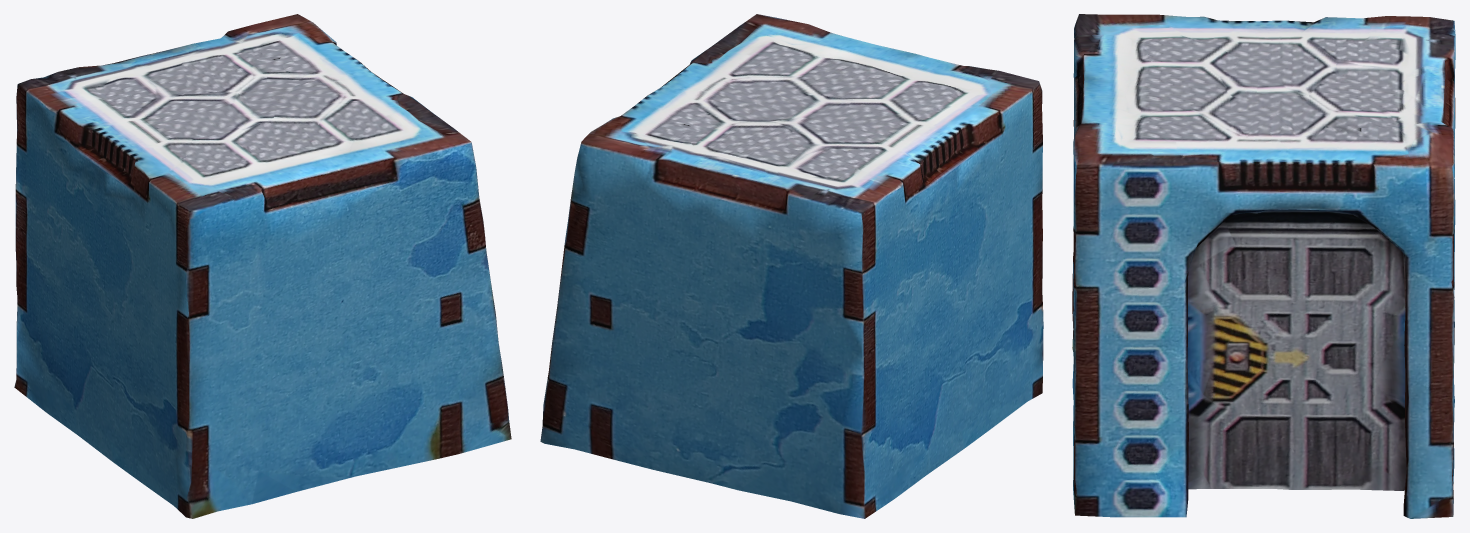
Rendered from station-size-3.glb.
3 renders of one model, left to right at view 1: azimuth 30°, elevation 25°; view 2: azimuth 150°, elevation 25°; view 3: azimuth 270°, elevation 25°, orthographic. The views are drawn at different scales.
Visible parts, largest first — view 1: District_5_staircase_top; view 2: District_5_staircase_top; view 3: District_5_staircase_top.
Boxes of the visible parts, box(x1,y1,x2,y2) form: District_5_staircase_top: box(14, 14, 511, 518); District_5_staircase_top: box(540, 14, 1043, 518); District_5_staircase_top: box(1072, 14, 1455, 518).
Bounding box in the file's own units: 2.02 × 1.83 × 1.89.
Materials: 1 (1 with a texture image).
